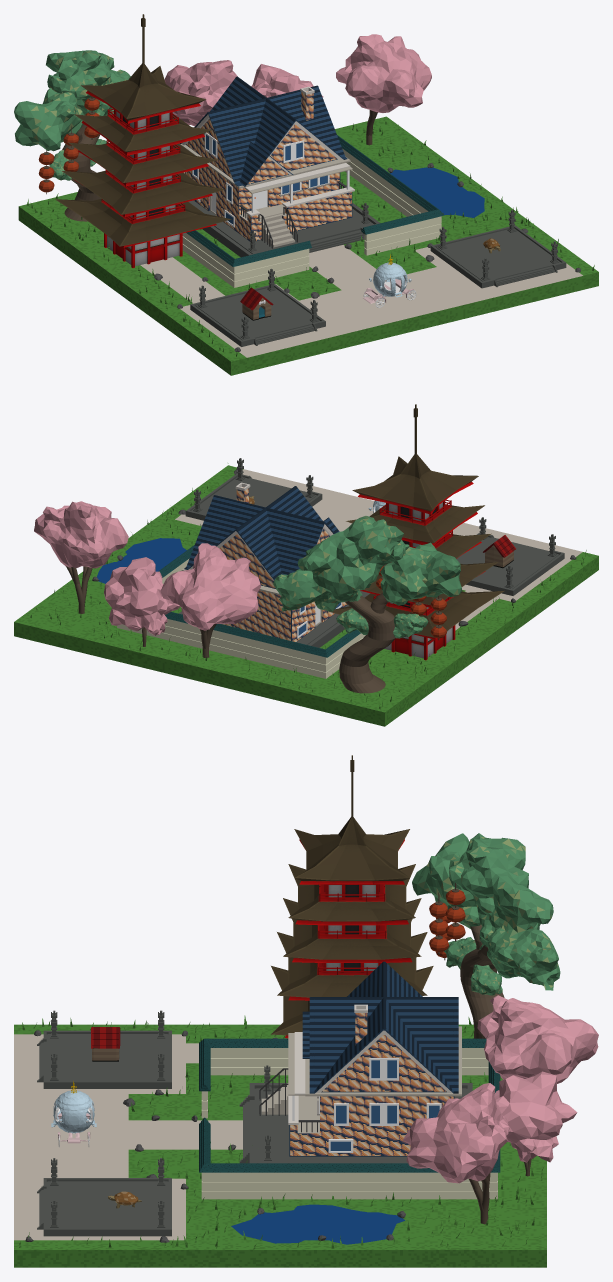
The picture shows the model from 3 angles, top to bottom: view 1: azimuth 30°, elevation 25°; view 2: azimuth 150°, elevation 25°; view 3: azimuth 270°, elevation 25°; orthographic projection. The views are drawn at different scales.
Visible parts, largest first — view 1: Cube.005, Cube.430, VEHICLES_FANTASY_CARRIAGE, OBJRANDOM_DOGHOUSE; view 2: Cube.005, Cube.430, OBJRANDOM_DOGHOUSE; view 3: Cube.005, Cube.430, VEHICLES_FANTASY_CARRIAGE, OBJRANDOM_DOGHOUSE.
Boxes of the visible parts, x1,y1,x2,y2 form: Cube.005: (14, 14, 598, 375); Cube.430: (179, 76, 354, 248); VEHICLES_FANTASY_CARRIAGE: (363, 254, 416, 307); OBJRANDOM_DOGHOUSE: (240, 287, 273, 320); Cube.005: (14, 404, 598, 726); Cube.430: (181, 482, 347, 642); OBJRANDOM_DOGHOUSE: (483, 535, 515, 568); Cube.005: (14, 755, 598, 1267); Cube.430: (259, 961, 461, 1156); VEHICLES_FANTASY_CARRIAGE: (51, 1081, 96, 1147); OBJRANDOM_DOGHOUSE: (90, 1027, 120, 1061).
Size of the model in its own units: 4528 by 2698 by 4389.
42 materials, 6 textured.
